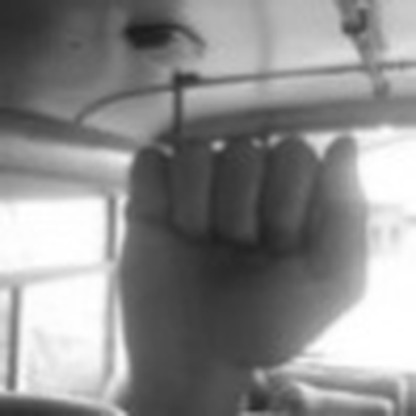a: (113, 126, 376, 369)
